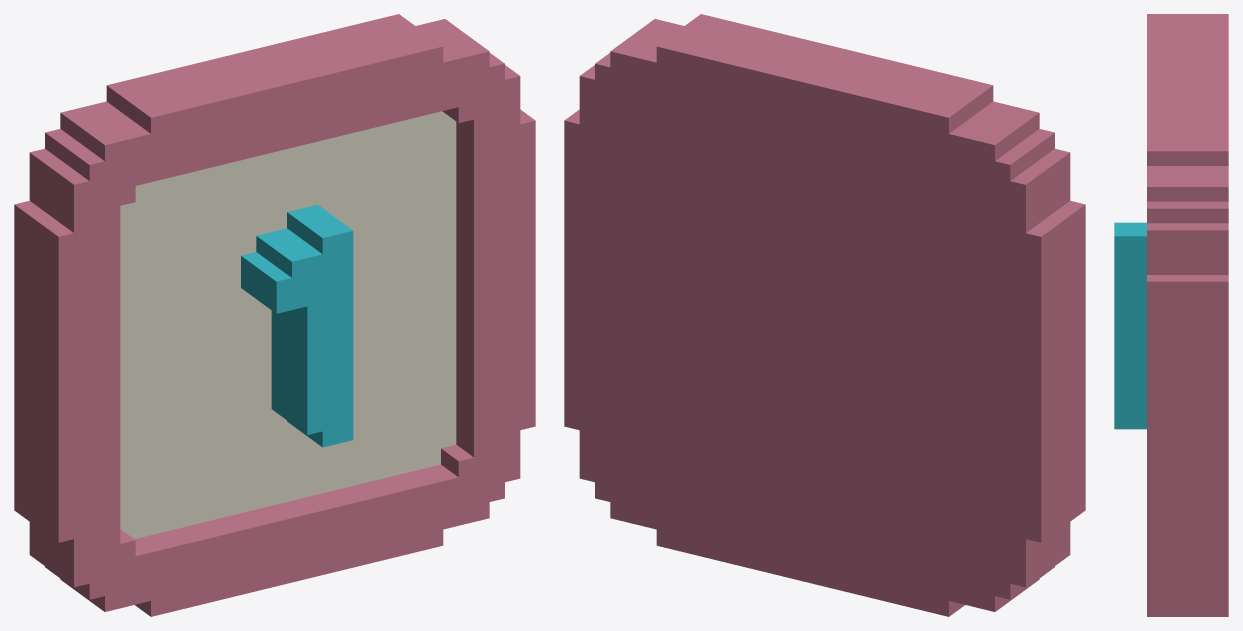
The model's file is roll_1.fbx.
The picture shows the model from 3 angles, left to right: view 1: azimuth 30°, elevation 25°; view 2: azimuth 150°, elevation 25°; view 3: azimuth 270°, elevation 25°; orthographic projection. The views are drawn at different scales.
Visible parts, largest first — view 1: OUT; view 2: OUT; view 3: OUT.
Boxes of the visible parts, x1,y1,x2,y2 form: OUT: [14, 14, 535, 616]; OUT: [564, 14, 1085, 616]; OUT: [1114, 14, 1228, 616].
Bounding box in the file's own units: 1.55 × 1.55 × 0.3502.
